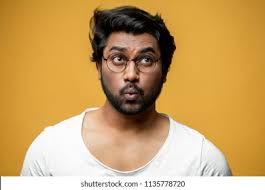s.black: (138, 71, 157, 92)
